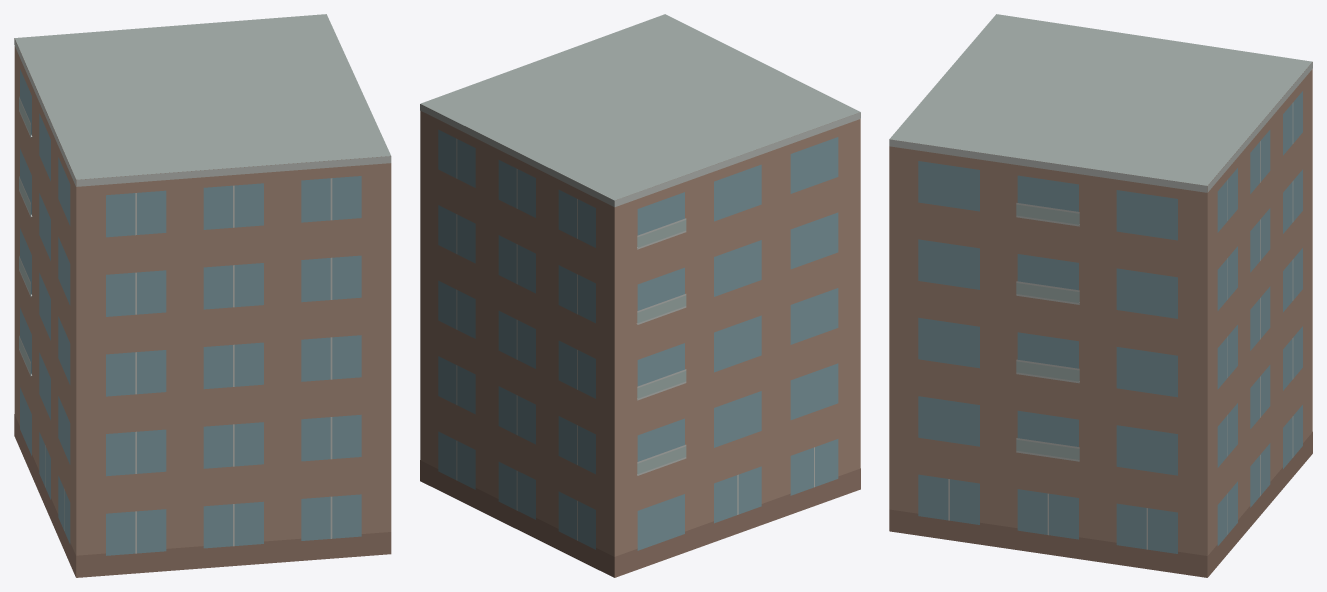
Rendered from survey-upis-32869528.glb.
3 views of the same model, side by side, from view 1: azimuth 30°, elevation 25°; view 2: azimuth 150°, elevation 25°; view 3: azimuth 270°, elevation 25° (orthographic). The views are drawn at different scales.
Parts seen in each view (by area): view 1: survey-upis-32869528.tmp; view 2: survey-upis-32869528.tmp; view 3: survey-upis-32869528.tmp.
Boxes of the visible parts, x1=… form: survey-upis-32869528.tmp: x1=14, y1=14, x2=391, y2=577; survey-upis-32869528.tmp: x1=420, y1=14, x2=860, y2=577; survey-upis-32869528.tmp: x1=889, y1=14, x2=1312, y2=577.
Size of the model in its own units: 12.85 by 13.65 by 13.38.
